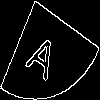A: (25, 24, 65, 83)
